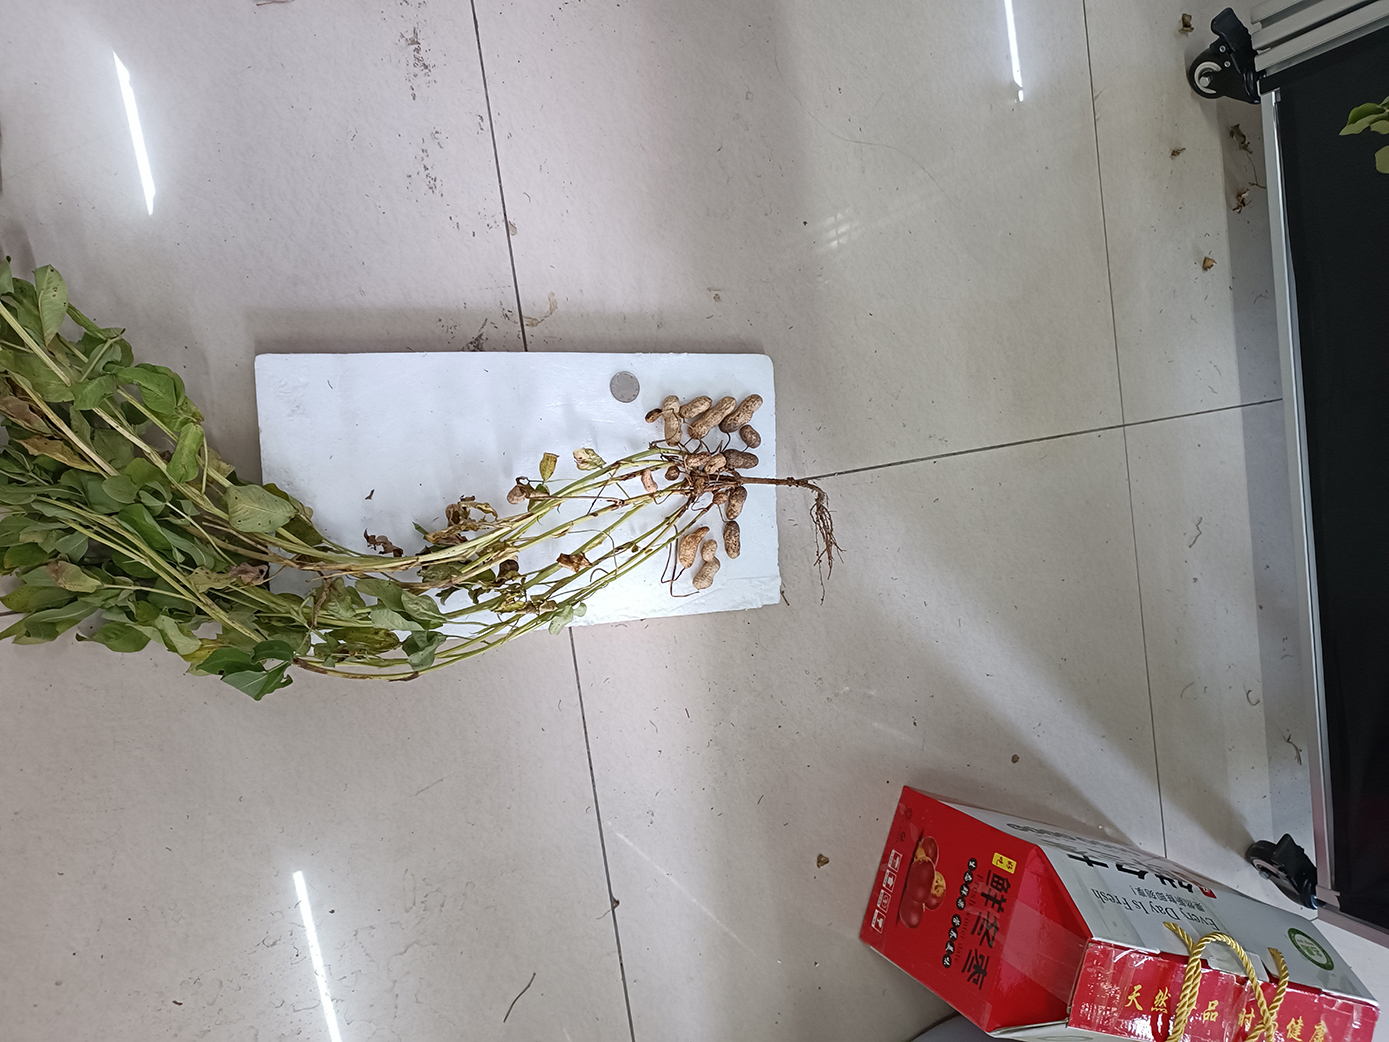h: (690, 397, 736, 437), (720, 394, 763, 432), (678, 526, 710, 569), (693, 540, 720, 589), (664, 395, 681, 447), (727, 487, 748, 521), (679, 396, 711, 417), (724, 522, 741, 558), (641, 467, 659, 496), (707, 455, 726, 474), (646, 408, 662, 424), (686, 455, 710, 465), (714, 493, 728, 505)
l: (724, 449, 759, 470), (741, 426, 763, 450), (664, 466, 680, 482)
